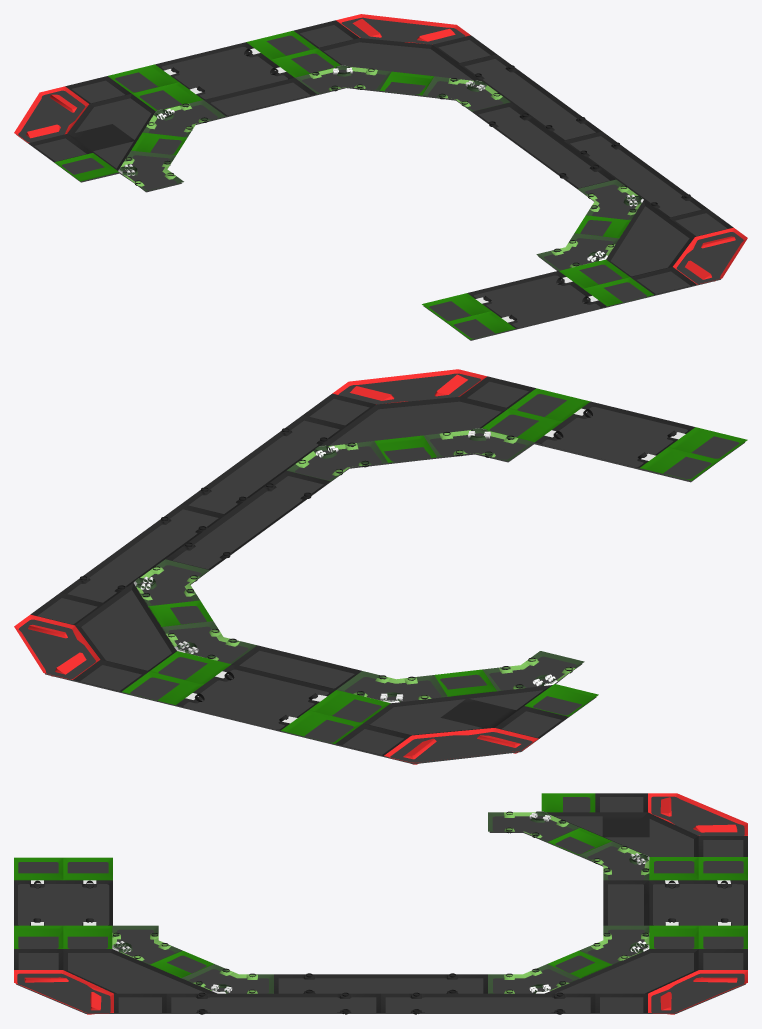
Rendered from Building_A_Room_A_Ceiling_A.fbx.
The picture shows the model from 3 angles, top to bottom: view 1: azimuth 30°, elevation 25°; view 2: azimuth 150°, elevation 25°; view 3: azimuth 270°, elevation 25°; orthographic projection. The views are drawn at different scales.
Visible parts, largest first — view 1: LPG_Building_A_Room_A_Ceiling_A, Geom_Building_A_Room_A_Ceiling_A_LOD00; view 2: LPG_Building_A_Room_A_Ceiling_A, Geom_Building_A_Room_A_Ceiling_A_LOD00; view 3: LPG_Building_A_Room_A_Ceiling_A, Geom_Building_A_Room_A_Ceiling_A_LOD00.
Part boxes in pixels (left/top/right/bottom): LPG_Building_A_Room_A_Ceiling_A: left=16, top=17, right=743, bottom=340; Geom_Building_A_Room_A_Ceiling_A_LOD00: left=14, top=14, right=747, bottom=339; LPG_Building_A_Room_A_Ceiling_A: left=18, top=373, right=744, bottom=764; Geom_Building_A_Room_A_Ceiling_A_LOD00: left=14, top=369, right=747, bottom=764; LPG_Building_A_Room_A_Ceiling_A: left=16, top=796, right=745, bottom=1013; Geom_Building_A_Room_A_Ceiling_A_LOD00: left=14, top=793, right=747, bottom=1014.
Size of what is drawn, in the model's own units: 1940 by 36.67 by 2740.
